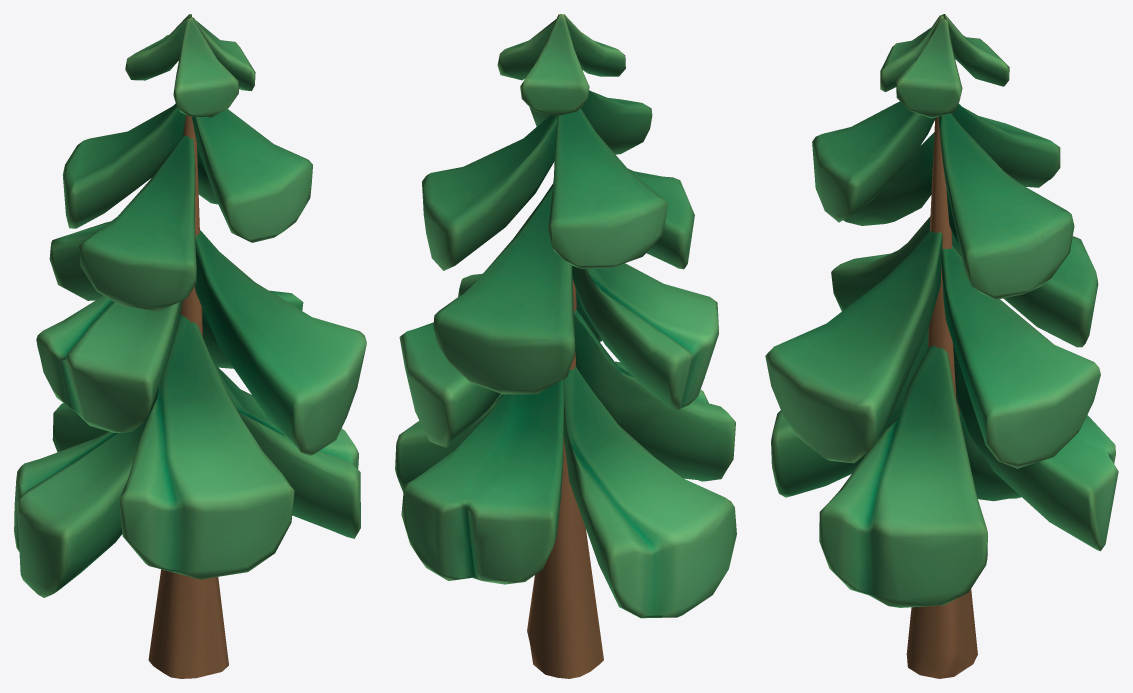
Rendered from SM_Tree_02.glb.
3 views of the same model, side by side, from view 1: azimuth 30°, elevation 25°; view 2: azimuth 150°, elevation 25°; view 3: azimuth 270°, elevation 25° (orthographic).
Visible parts, largest first — view 1: SM_Tree_02; view 2: SM_Tree_02; view 3: SM_Tree_02.
Part boxes in pixels (x1=…): SM_Tree_02: x1=14, y1=14, x2=366, y2=678; SM_Tree_02: x1=395, y1=14, x2=736, y2=678; SM_Tree_02: x1=765, y1=14, x2=1118, y2=678.
Size of the model in its own units: 2.1 by 4.31 by 2.12.
Materials: 1 (1 with a texture image).
